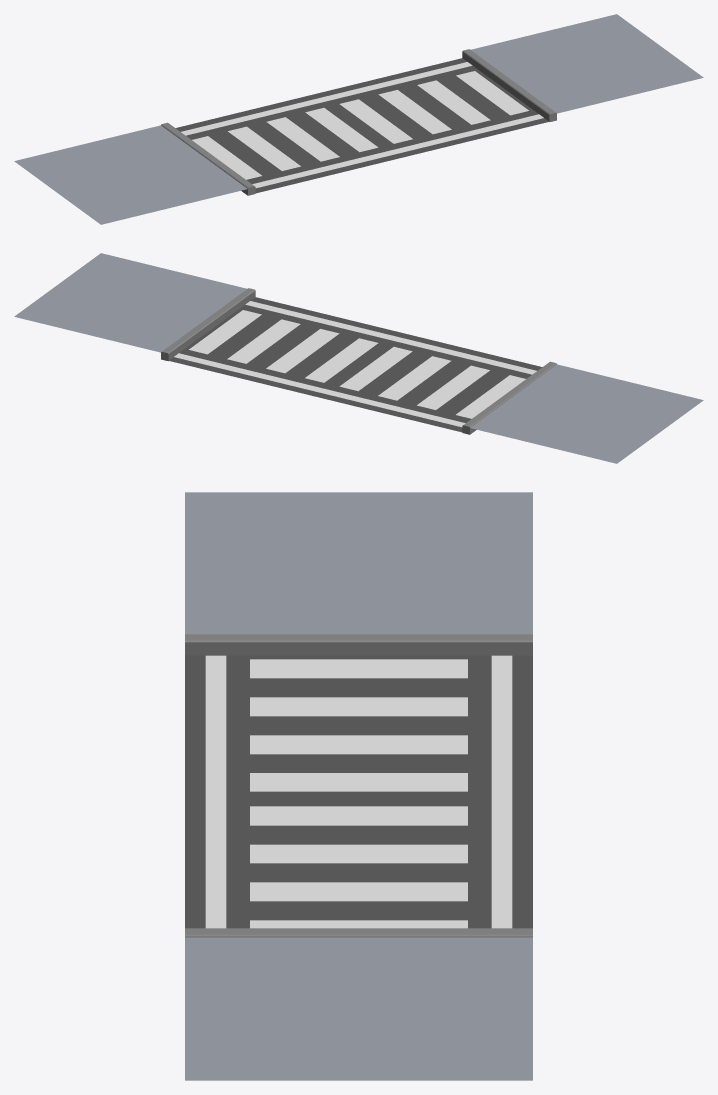
Rendered from Road_09.fbx.
3 views of the same model, one above another, from view 1: azimuth 30°, elevation 25°; view 2: azimuth 150°, elevation 25°; view 3: azimuth 270°, elevation 25° (orthographic). The views are drawn at different scales.
Parts seen in each view (by area): view 1: Road_09; view 2: Road_09; view 3: Road_09.
Part boxes in pixels (box(x1,y1,x2,y2)): Road_09: box(14, 14, 703, 224); Road_09: box(14, 253, 703, 463); Road_09: box(185, 492, 532, 1080).
Bounding box in the file's own units: 1200 × 15 × 300.
